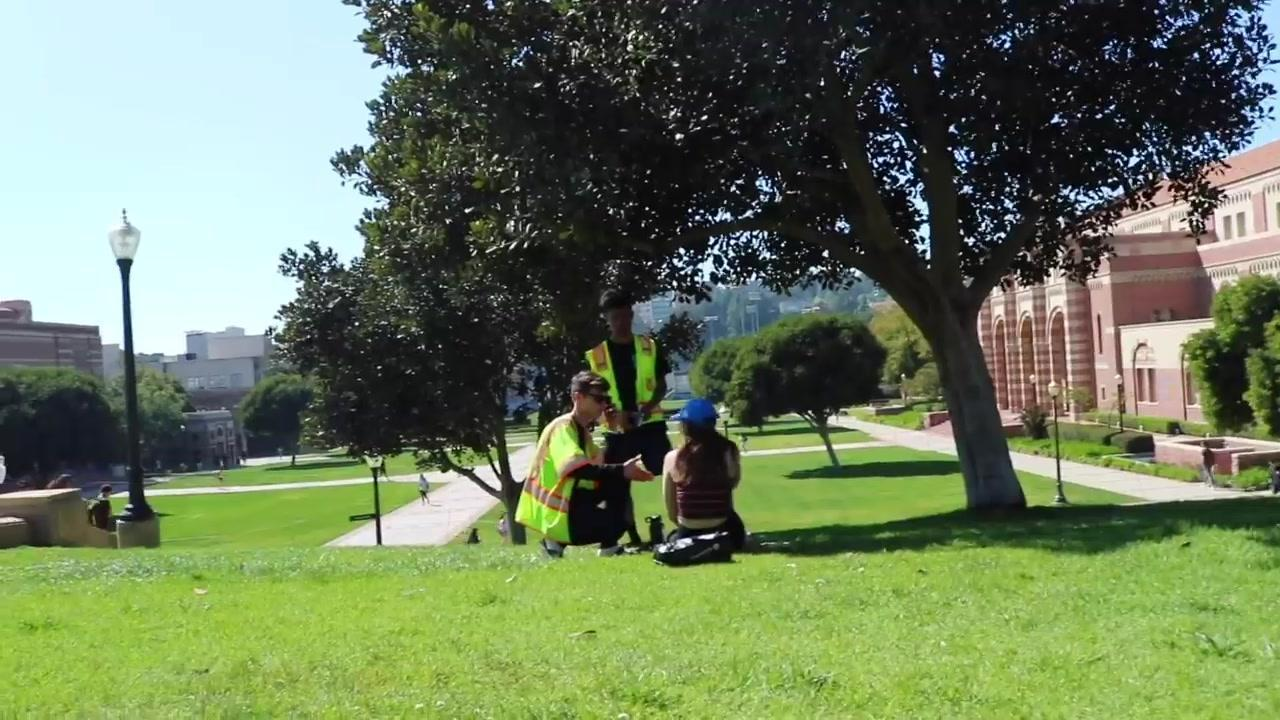Glass: (511, 423, 614, 535)
